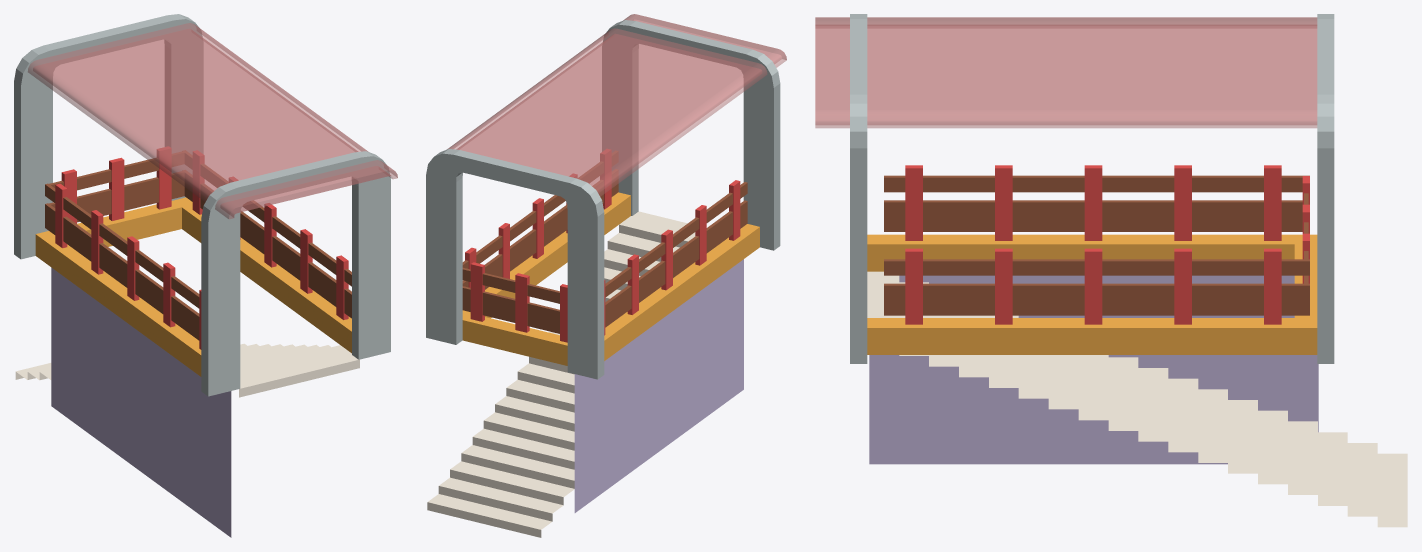
File: Subway.fbx
3 views of the same model, side by side, from view 1: azimuth 30°, elevation 25°; view 2: azimuth 150°, elevation 25°; view 3: azimuth 270°, elevation 25° (orthographic). The views are drawn at different scales.
Visible parts, largest first — view 1: Subway; view 2: Subway; view 3: Subway.
Boxes of the visible parts, x1,y1,x2,y2 form: Subway: (14,14,397,537); Subway: (426,14,786,537); Subway: (815,14,1407,527).
Size of the model in its own units: 598 by 1115 by 1347.
